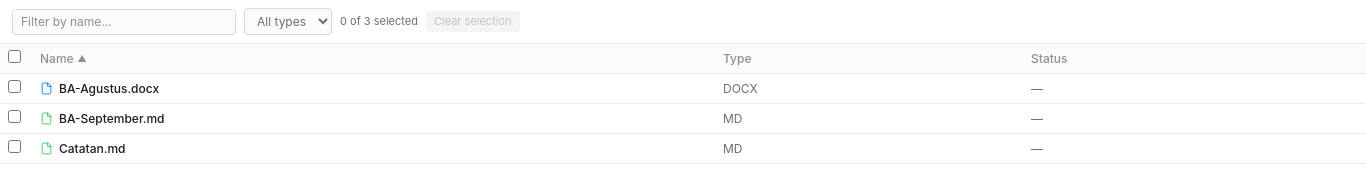
Test case: List filtering › filters rows by name (case-insensitive substring)
The image size is (1366, 181).
Type "ba-" into the search field named "Filter documents".
click(124, 22); type("ba-")  # box [12,8,236,34]
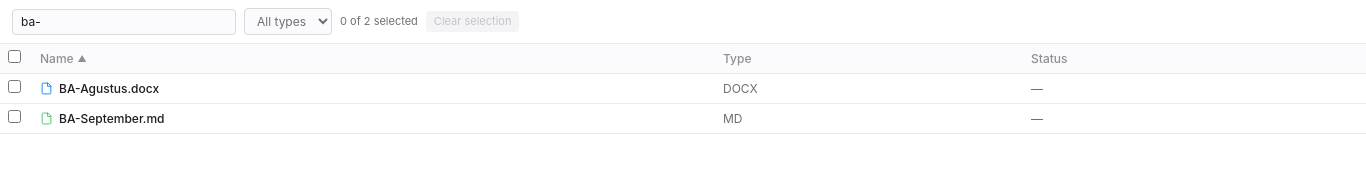
Expected: the row with test id "list-row-doc-1" is shown, [0,74,1365,104]
Expected: the row with test id "list-row-doc-2" is gone
